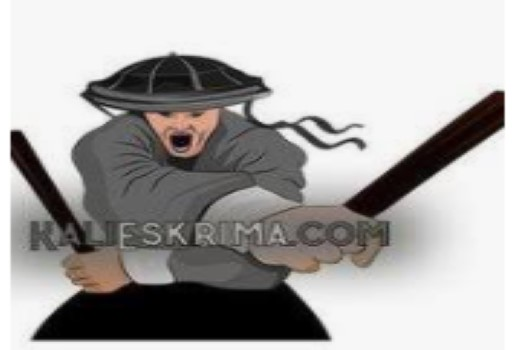baston_e: (362, 92, 484, 233), (10, 156, 85, 253)
baston_v: (476, 77, 513, 138), (5, 123, 37, 164)
